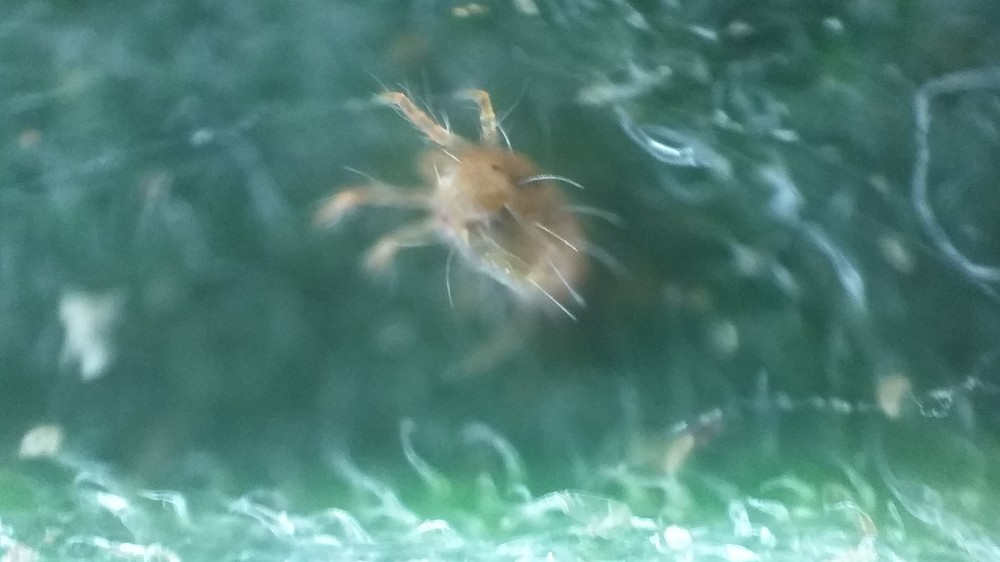Aracnido Rojo: (318, 72, 656, 368)
